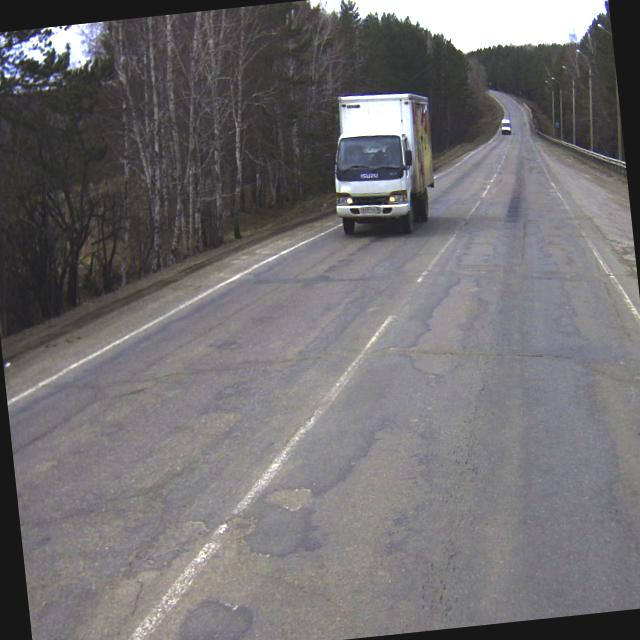road: (7, 89, 640, 640)
